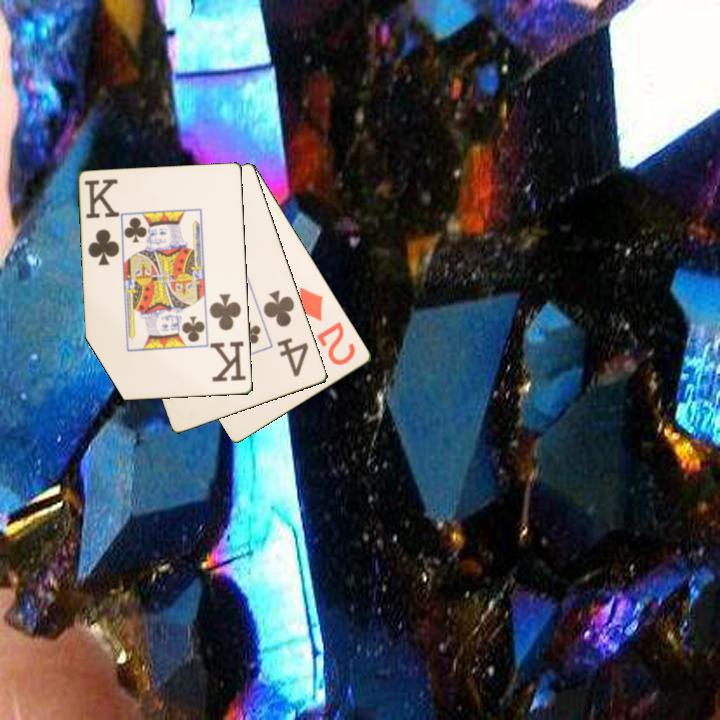2d: (295, 283, 359, 368)
4c: (260, 287, 312, 380)
Kc: (206, 290, 249, 385), (81, 175, 123, 269)
